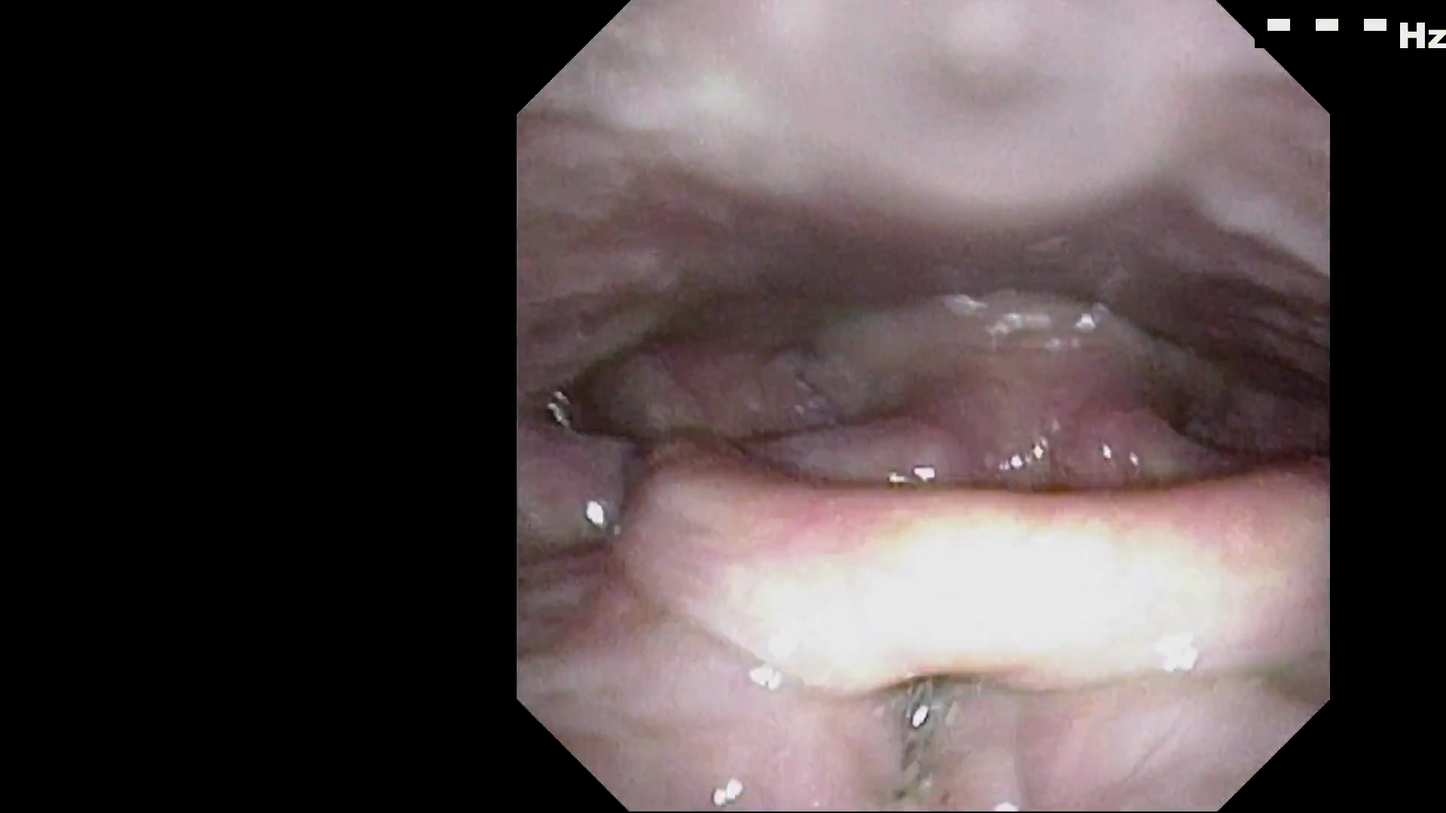epiglottis: (666, 424, 1291, 691), (699, 369, 1249, 536)
